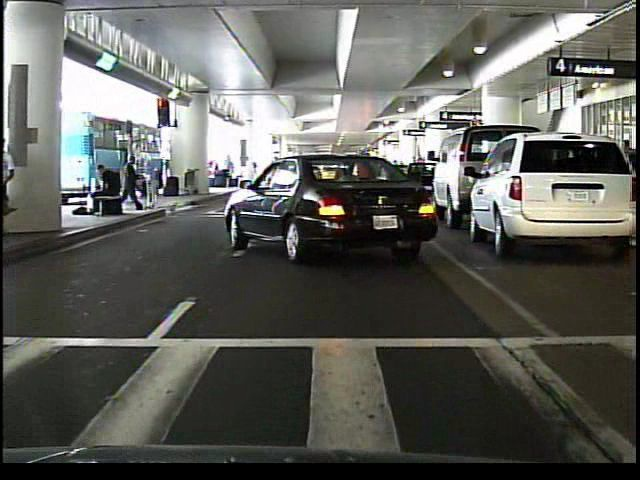person: (86, 162, 123, 221), (122, 149, 145, 210)
